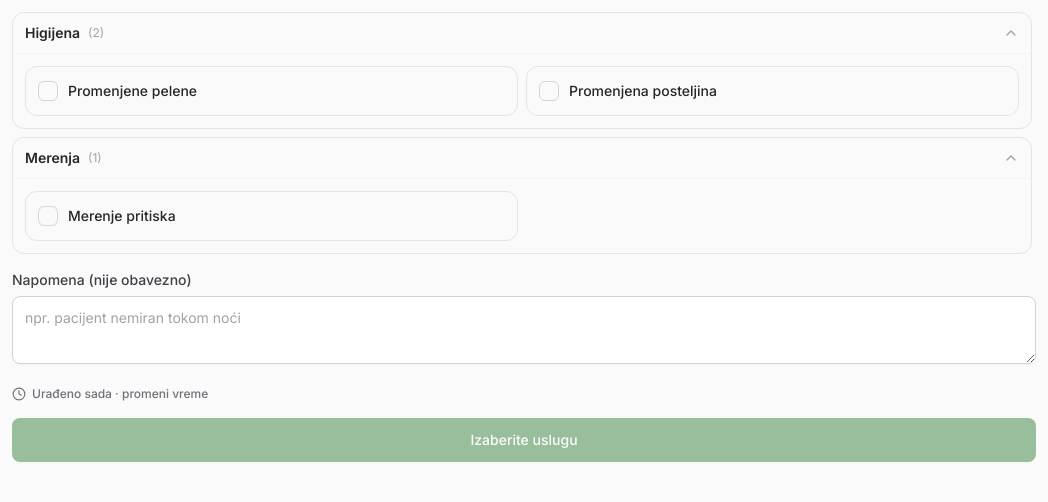
it: CareTaskPicker › usluge su grupisane, a besplatne ne traže odobrenje
expect the text "Merenja" is shown: met, box [25,148,80,168]
Click the button "Merenje pritiska". click: (122, 216)
box: [26,192,517,240]
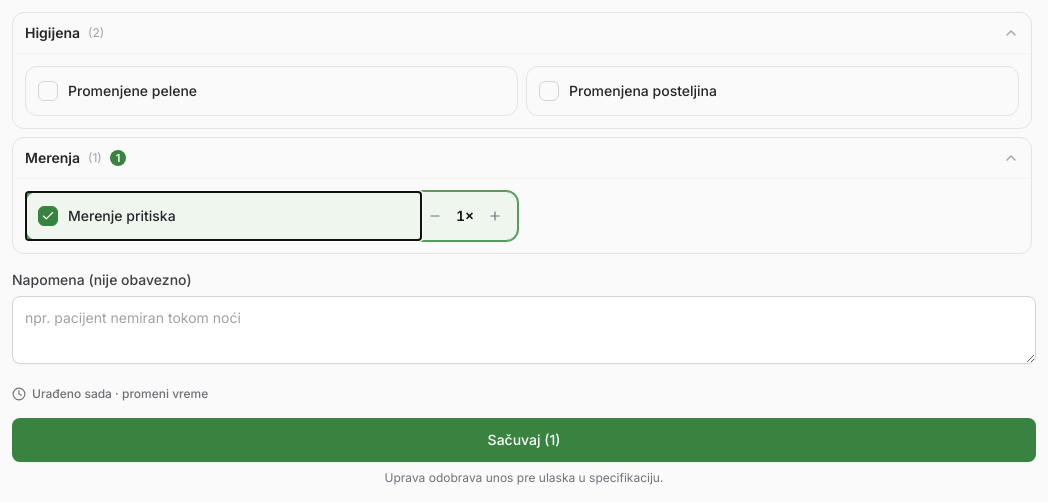
expect the button "Sačuvaj (1)" is enabled: met, box [12,418,1036,462]
